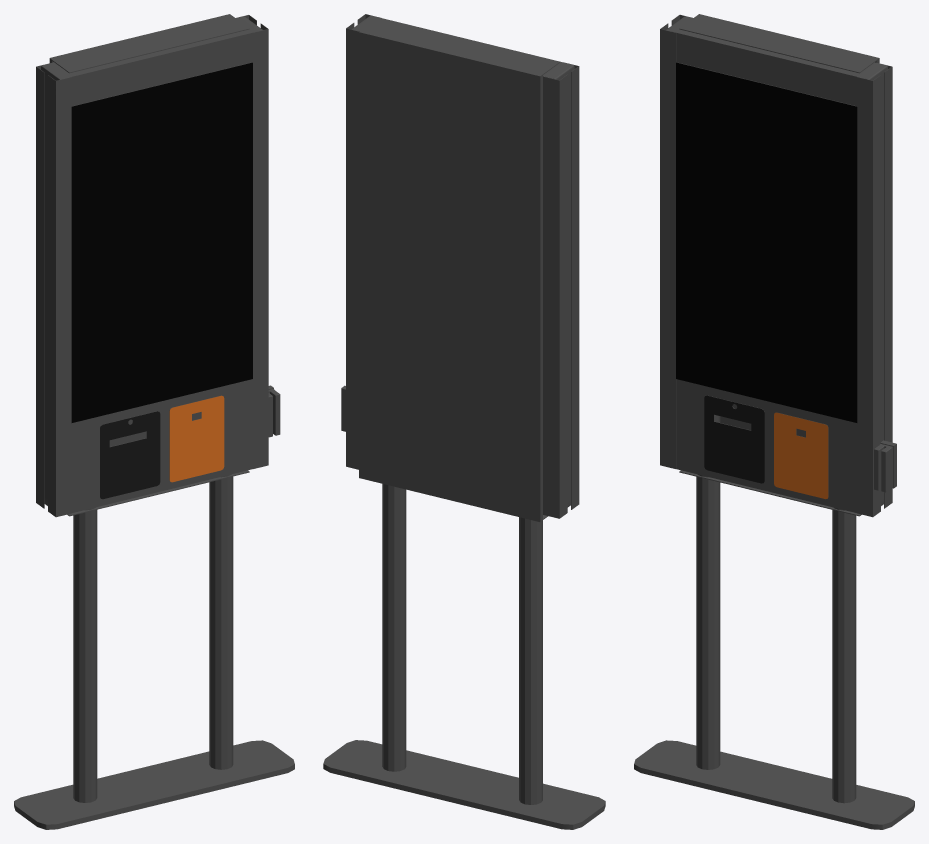
The model's file is UTC-723st.fbx.
3 views of the same model, side by side, from view 1: azimuth 30°, elevation 25°; view 2: azimuth 150°, elevation 25°; view 3: azimuth 330°, elevation 25° (orthographic).
Parts seen in each view (by area): view 1: A, C, B; view 2: B, C, A; view 3: A, C, B.
Boxes of the visible parts, <box> form: A: <box>36,15,280,517</box>; C: <box>14,474,294,829</box>; B: <box>49,14,249,516</box>; B: <box>359,17,559,521</box>; C: <box>323,484,605,829</box>; A: <box>341,14,579,518</box>; A: <box>660,14,896,517</box>; C: <box>634,415,914,829</box>; B: <box>679,14,879,516</box>.
Bounding box in the file's own units: 64.16 × 177 × 15.86.
